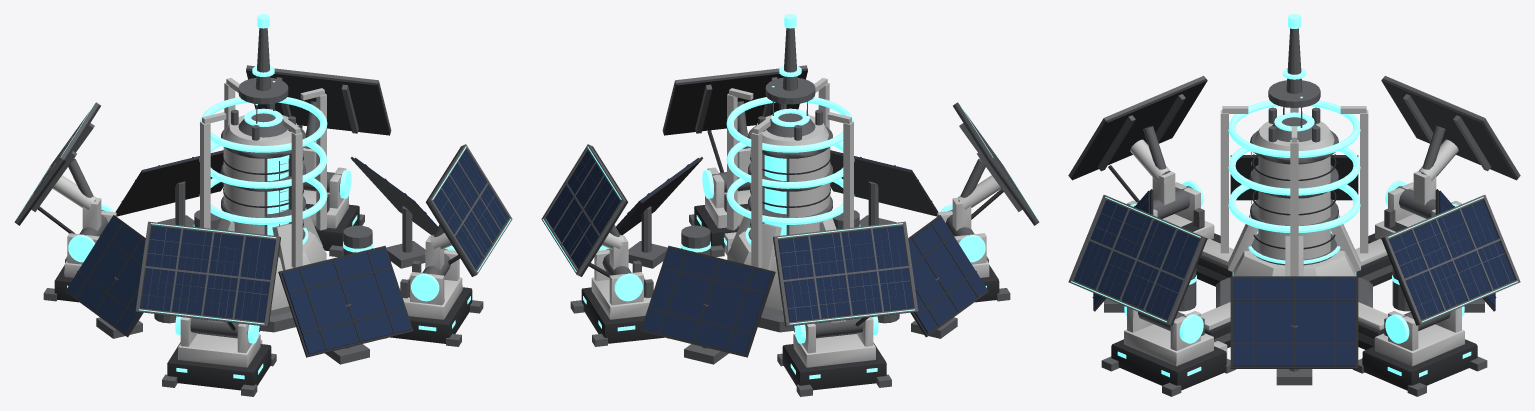
Rendered from sb_power_t2.glb.
3 views of the same model, side by side, from view 1: azimuth 30°, elevation 25°; view 2: azimuth 150°, elevation 25°; view 3: azimuth 270°, elevation 25° (orthographic). The views are drawn at different scales.
Parts seen in each view (by area): view 1: SM_PWR_BODY, SM_PWR2_PANEL_GLASS, SM_PWR2_PANEL_FRAME, SM_PWR2_PYLONS, SM_PWR_LIGHTS, SM_PWR2_POSTS, SM_PWR2_RINGS, SM_PWR2_SPIRE; view 2: SM_PWR_BODY, SM_PWR2_PANEL_GLASS, SM_PWR2_PANEL_FRAME, SM_PWR2_PYLONS, SM_PWR_LIGHTS, SM_PWR2_POSTS, SM_PWR2_RINGS, SM_PWR2_SPIRE; view 3: SM_PWR_BODY, SM_PWR2_PANEL_GLASS, SM_PWR2_RINGS, SM_PWR2_PYLONS, SM_PWR2_PANEL_FRAME, SM_PWR_LIGHTS, SM_PWR2_POSTS, SM_PWR2_SPIRE.
Part boxes in pixels (x1,y1,x2,y2): SM_PWR_BODY: (14, 65, 512, 396); SM_PWR2_PANEL_GLASS: (66, 150, 437, 354); SM_PWR2_PANEL_FRAME: (65, 151, 452, 357); SM_PWR2_PYLONS: (200, 78, 326, 267); SM_PWR_LIGHTS: (15, 81, 511, 379); SM_PWR2_POSTS: (96, 181, 425, 364); SM_PWR2_RINGS: (199, 97, 327, 224); SM_PWR2_SPIRE: (238, 28, 288, 104); SM_PWR_BODY: (541, 65, 1039, 396); SM_PWR2_PANEL_GLASS: (616, 150, 987, 354); SM_PWR2_PANEL_FRAME: (601, 151, 988, 357); SM_PWR2_PYLONS: (727, 78, 853, 267); SM_PWR_LIGHTS: (542, 86, 1038, 379); SM_PWR2_POSTS: (628, 181, 957, 364); SM_PWR2_RINGS: (726, 97, 854, 224); SM_PWR2_SPIRE: (765, 28, 815, 104); SM_PWR_BODY: (1068, 76, 1520, 396); SM_PWR2_PANEL_GLASS: (1093, 155, 1495, 366); SM_PWR2_RINGS: (1228, 100, 1360, 232); SM_PWR2_PYLONS: (1220, 106, 1368, 276); SM_PWR2_PANEL_FRAME: (1092, 154, 1496, 368); SM_PWR_LIGHTS: (1071, 96, 1517, 377); SM_PWR2_POSTS: (1104, 267, 1484, 385); SM_PWR2_SPIRE: (1268, 28, 1320, 107).
Size of the model in its own units: 38.25 by 27.9 by 38.25.
